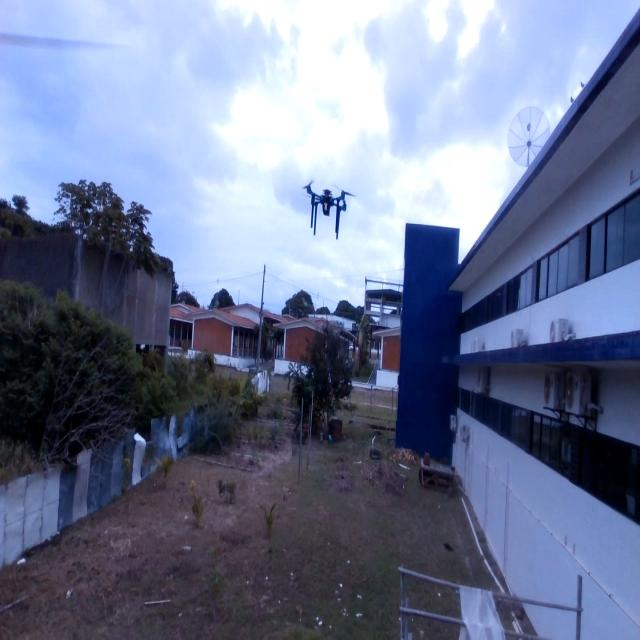-uav-: (295, 162, 359, 250)
